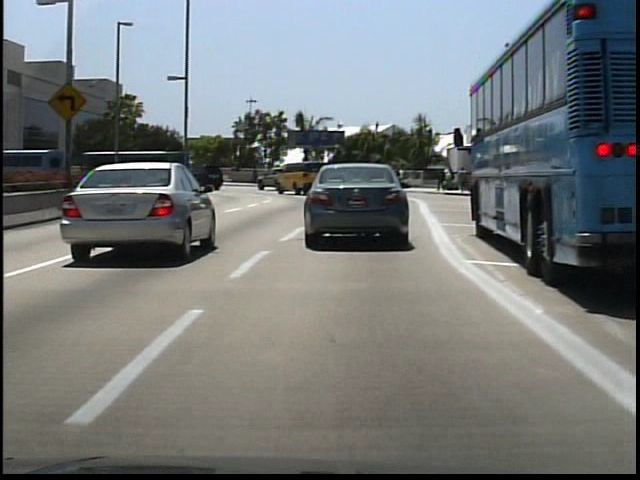person: (455, 164, 470, 195), (433, 166, 446, 193), (252, 162, 262, 184)
